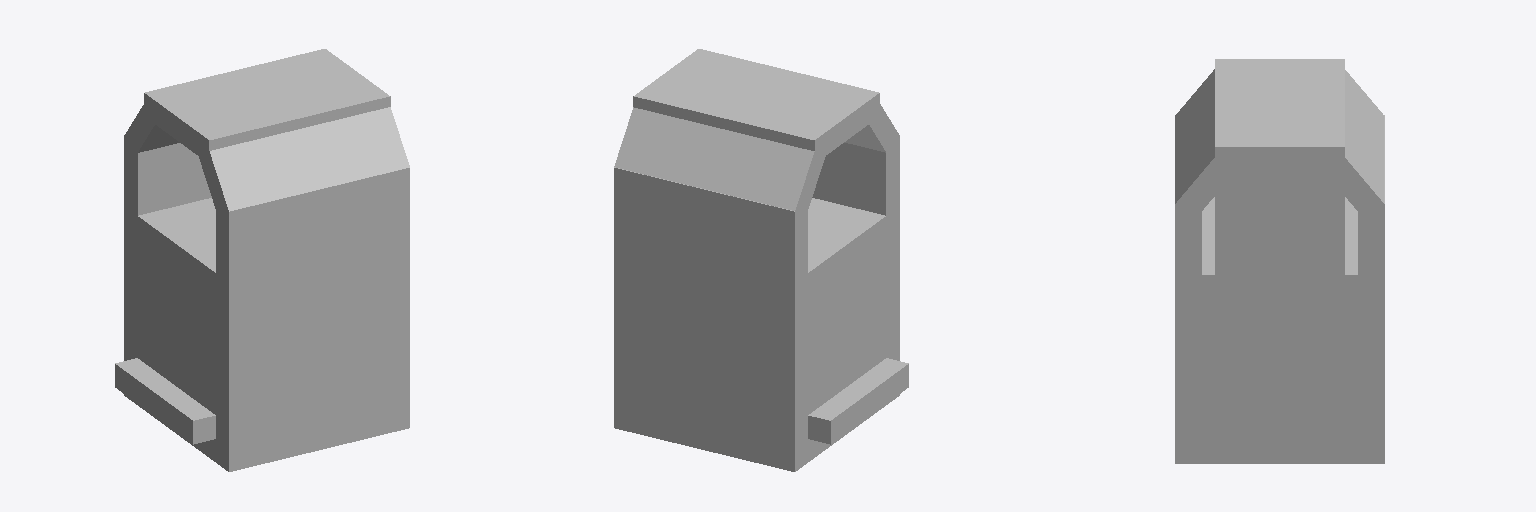
Rendered from factory.obj.
3 views of the same model, side by side, from view 1: azimuth 30°, elevation 25°; view 2: azimuth 150°, elevation 25°; view 3: azimuth 270°, elevation 25° (orthographic).
Visible parts, largest first — view 1: cube; view 2: cube; view 3: cube.
Boxes of the visible parts, box(x1,y1,x2,y2) form: cube: box(115, 49, 409, 471); cube: box(614, 49, 908, 471); cube: box(1175, 59, 1384, 463).
Size of the model in its own units: 0.5625 by 0.8375 by 0.5.